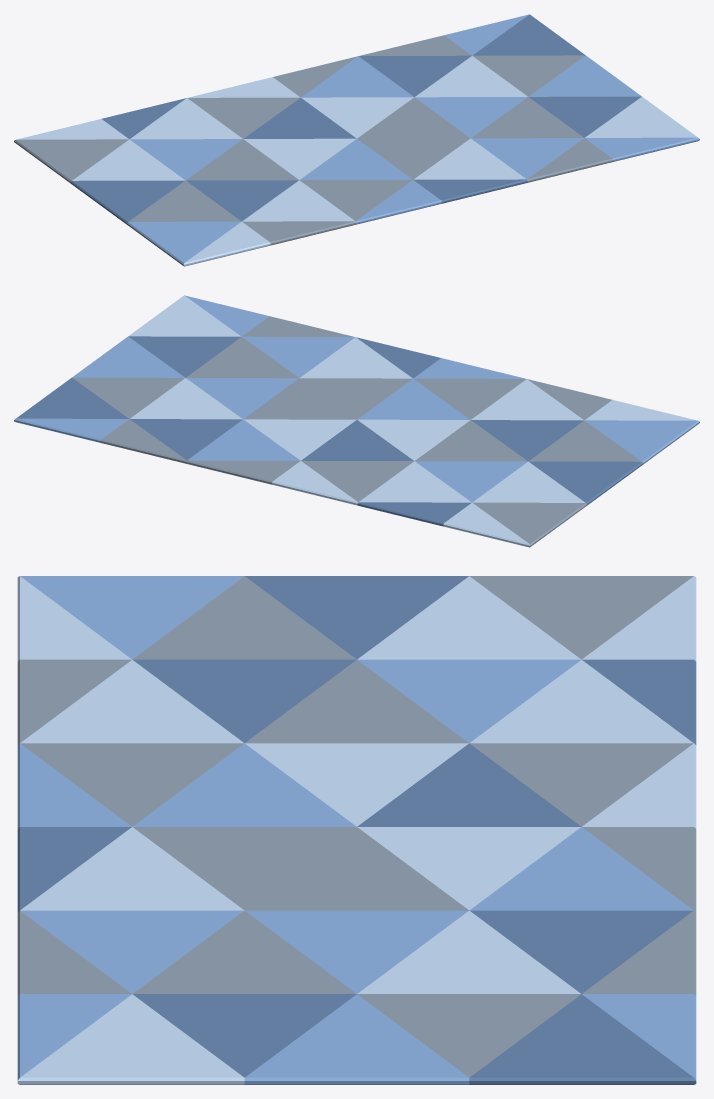
File: RugSquared.glb
3 renders of one model, top to bottom at view 1: azimuth 30°, elevation 25°; view 2: azimuth 150°, elevation 25°; view 3: azimuth 270°, elevation 25°, orthographic. The views are drawn at different scales.
Parts seen in each view (by area): view 1: Rug; view 2: Rug; view 3: Rug.
Part boxes in pixels (bbox=[...]): Rug: bbox=[14, 14, 699, 266]; Rug: bbox=[14, 295, 699, 547]; Rug: bbox=[17, 576, 696, 1084].
Bounding box in the file's own units: 3.48 × 0.0232 × 1.98.
Materials: 1 (1 with a texture image).
